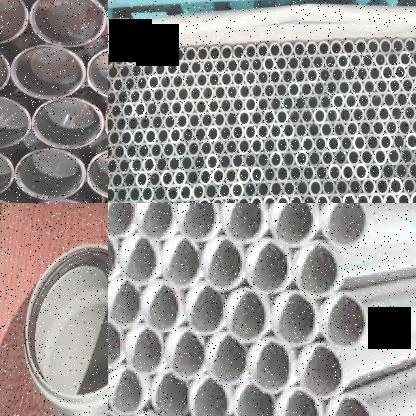pipe: (23, 244, 108, 408), (11, 44, 87, 100), (31, 97, 105, 150), (15, 148, 87, 201), (28, 0, 106, 48), (292, 340, 348, 402), (291, 239, 346, 298), (244, 334, 296, 396), (245, 234, 298, 294), (269, 286, 320, 344), (320, 292, 372, 348), (199, 235, 248, 292), (222, 287, 272, 342), (138, 276, 186, 331), (161, 232, 208, 288), (267, 203, 324, 249), (163, 325, 210, 380), (117, 231, 164, 284), (182, 280, 227, 335), (204, 330, 250, 380), (124, 322, 167, 375), (322, 203, 369, 250), (220, 203, 274, 241), (149, 367, 190, 416), (186, 372, 231, 416), (172, 203, 224, 240), (108, 276, 144, 329), (108, 364, 145, 413), (134, 203, 180, 241), (0, 95, 32, 149), (272, 385, 327, 416), (232, 380, 279, 416), (0, 0, 29, 44), (85, 45, 108, 100), (86, 147, 108, 200), (322, 394, 375, 416), (108, 203, 138, 236), (108, 315, 126, 366), (0, 146, 15, 198), (108, 230, 122, 280), (308, 178, 323, 198), (389, 176, 403, 197), (367, 162, 382, 181), (320, 148, 335, 167), (386, 147, 401, 166), (392, 132, 406, 152), (301, 164, 316, 182), (327, 164, 342, 182), (346, 148, 361, 166), (358, 120, 373, 138), (191, 183, 205, 202), (230, 181, 244, 200), (256, 180, 270, 199), (282, 179, 296, 198), (296, 179, 310, 198), (322, 178, 336, 197), (376, 177, 390, 196), (402, 177, 416, 196), (160, 169, 174, 188), (250, 165, 264, 184), (288, 164, 302, 183), (341, 163, 355, 182), (354, 162, 368, 181), (381, 162, 395, 181), (366, 133, 380, 152), (369, 92, 384, 109), (395, 90, 410, 107), (166, 184, 180, 202), (204, 182, 218, 200), (269, 180, 283, 198), (348, 178, 362, 196), (336, 178, 350, 196), (362, 178, 376, 196), (224, 167, 238, 185), (314, 164, 328, 182), (394, 162, 408, 180), (142, 156, 156, 174), (180, 154, 194, 172), (192, 154, 206, 172), (218, 152, 232, 170), (256, 152, 270, 170), (334, 149, 348, 167), (360, 148, 374, 166), (373, 148, 387, 166), (400, 147, 414, 165), (174, 140, 188, 158), (224, 138, 238, 156), (250, 137, 264, 155), (288, 136, 302, 154), (314, 135, 328, 153), (352, 134, 366, 152), (379, 133, 393, 151), (256, 122, 270, 140), (294, 122, 308, 140), (345, 120, 359, 138), (372, 119, 386, 137), (250, 109, 264, 127), (300, 108, 314, 126), (306, 94, 320, 112), (332, 92, 346, 110), (356, 92, 370, 110), (362, 78, 376, 96), (268, 68, 282, 86), (330, 66, 344, 84), (386, 50, 400, 68), (256, 42, 270, 60), (179, 183, 192, 202), (244, 180, 257, 199), (263, 165, 276, 184), (282, 151, 296, 168), (212, 139, 226, 156), (398, 119, 412, 136), (200, 112, 214, 129), (237, 110, 251, 127), (262, 109, 276, 126), (326, 107, 340, 124), (338, 107, 352, 124), (351, 107, 365, 124), (377, 105, 391, 122), (390, 104, 404, 121), (402, 104, 416, 121), (194, 98, 208, 115), (344, 92, 358, 109), (350, 79, 364, 96), (375, 78, 389, 95), (388, 77, 402, 94), (400, 77, 414, 94), (256, 69, 270, 86), (318, 67, 332, 84), (250, 56, 264, 73), (262, 55, 276, 72), (274, 55, 288, 72), (244, 44, 258, 61), (342, 39, 356, 56), (366, 38, 380, 55), (128, 185, 141, 203), (218, 182, 231, 200), (123, 171, 136, 189), (148, 170, 161, 188), (186, 168, 199, 186), (199, 168, 212, 186), (276, 165, 289, 183), (130, 156, 143, 174), (231, 152, 244, 170), (244, 152, 257, 170), (295, 150, 308, 168), (113, 143, 126, 161), (162, 141, 175, 159), (187, 140, 200, 158), (263, 136, 276, 154), (327, 134, 340, 152), (340, 134, 353, 152), (182, 126, 195, 144), (194, 126, 207, 144), (244, 123, 257, 141), (269, 122, 282, 140), (282, 122, 295, 140), (307, 121, 320, 139), (288, 108, 301, 126), (294, 94, 307, 112), (319, 93, 332, 111), (219, 70, 232, 88), (381, 64, 394, 82), (399, 50, 412, 68), (113, 50, 126, 68), (220, 44, 233, 62), (354, 38, 367, 56), (154, 184, 166, 203), (156, 128, 170, 144), (312, 108, 326, 124), (364, 106, 378, 122), (382, 92, 396, 108), (312, 81, 326, 97), (244, 70, 258, 86), (286, 55, 300, 71), (336, 53, 350, 69), (268, 42, 282, 58), (280, 42, 294, 58), (292, 42, 306, 58), (155, 156, 168, 173), (308, 150, 321, 167), (108, 130, 121, 147), (144, 128, 157, 145), (333, 121, 346, 138), (385, 119, 398, 136), (151, 114, 164, 131), (188, 112, 201, 129), (182, 99, 195, 116), (207, 98, 220, 115), (257, 96, 270, 113), (201, 85, 214, 102), (238, 83, 251, 100), (275, 82, 288, 99), (159, 73, 172, 90), (171, 73, 184, 90), (196, 72, 209, 89), (207, 71, 220, 88), (232, 70, 245, 87), (281, 68, 294, 85), (394, 63, 407, 80), (324, 53, 337, 70), (349, 52, 362, 69), (232, 44, 245, 61), (317, 40, 330, 57), (379, 38, 392, 55), (141, 185, 153, 203), (111, 172, 123, 190), (136, 171, 148, 189), (174, 169, 186, 187), (212, 168, 224, 186), (238, 166, 250, 184), (118, 157, 130, 175), (168, 154, 180, 172), (206, 153, 218, 171), (270, 151, 282, 169), (126, 142, 138, 160), (138, 142, 150, 160), (150, 142, 162, 160), (238, 138, 250, 156), (276, 136, 288, 154), (132, 128, 144, 146), (207, 125, 219, 143), (146, 100, 158, 118), (282, 94, 294, 112), (153, 86, 165, 104), (165, 86, 177, 104), (251, 82, 263, 100), (184, 72, 196, 90), (239, 56, 251, 74), (320, 122, 333, 138), (170, 100, 183, 116), (269, 96, 282, 112), (263, 82, 276, 98), (300, 82, 313, 98), (338, 80, 351, 96), (368, 66, 381, 82), (312, 54, 325, 70), (305, 41, 318, 57), (116, 186, 128, 203), (302, 136, 314, 153), (120, 129, 132, 146), (170, 127, 182, 144), (220, 125, 232, 142), (127, 115, 139, 132), (139, 115, 151, 132), (176, 113, 188, 130), (226, 110, 238, 127), (276, 109, 288, 126), (110, 102, 122, 119), (122, 102, 134, 119), (134, 101, 146, 118), (158, 100, 170, 117), (220, 97, 232, 114), (117, 89, 129, 106), (288, 81, 300, 98), (294, 68, 306, 85), (306, 67, 318, 84), (344, 66, 356, 83), (119, 63, 131, 80), (130, 62, 142, 79), (142, 62, 154, 79), (154, 61, 166, 78), (214, 58, 226, 75), (226, 57, 238, 74), (362, 52, 374, 69), (374, 51, 386, 68), (137, 49, 149, 66), (184, 46, 196, 63), (330, 40, 342, 57), (404, 36, 416, 53), (405, 132, 416, 150), (200, 140, 212, 156), (232, 124, 244, 140), (116, 116, 128, 132), (164, 114, 176, 130), (232, 97, 244, 113), (141, 88, 153, 104), (177, 86, 189, 102), (190, 86, 202, 102), (214, 85, 226, 101), (226, 84, 238, 100), (326, 80, 338, 96), (112, 77, 124, 93), (124, 76, 136, 92), (136, 75, 148, 91), (356, 66, 368, 82), (166, 61, 178, 77), (190, 60, 202, 76), (178, 60, 190, 76), (300, 55, 312, 71), (126, 50, 138, 66), (148, 48, 160, 64), (161, 48, 173, 64), (172, 47, 184, 63), (196, 46, 208, 62), (392, 38, 404, 54), (214, 111, 225, 128), (245, 96, 256, 113), (209, 45, 220, 62), (108, 157, 118, 175), (129, 89, 141, 104), (148, 74, 159, 90), (108, 64, 119, 80), (203, 59, 214, 75), (406, 62, 416, 79), (397, 191, 410, 203), (342, 192, 356, 203), (369, 192, 383, 203), (383, 192, 397, 203), (108, 89, 117, 106), (408, 161, 416, 180), (315, 193, 329, 203), (329, 193, 343, 203), (356, 193, 370, 203), (108, 186, 116, 203), (408, 90, 416, 107), (289, 194, 303, 203), (302, 194, 316, 203), (108, 116, 115, 133), (276, 194, 289, 203), (249, 195, 263, 203), (263, 195, 276, 203), (108, 50, 114, 67), (223, 196, 237, 203), (236, 196, 250, 203), (108, 144, 113, 161), (411, 118, 416, 135), (210, 197, 224, 203), (411, 50, 416, 66), (198, 197, 211, 203), (410, 191, 416, 203), (172, 198, 185, 203), (185, 198, 198, 203), (108, 78, 112, 94), (158, 199, 172, 203), (108, 172, 111, 190), (413, 146, 416, 164), (146, 199, 159, 203), (413, 76, 416, 93)
